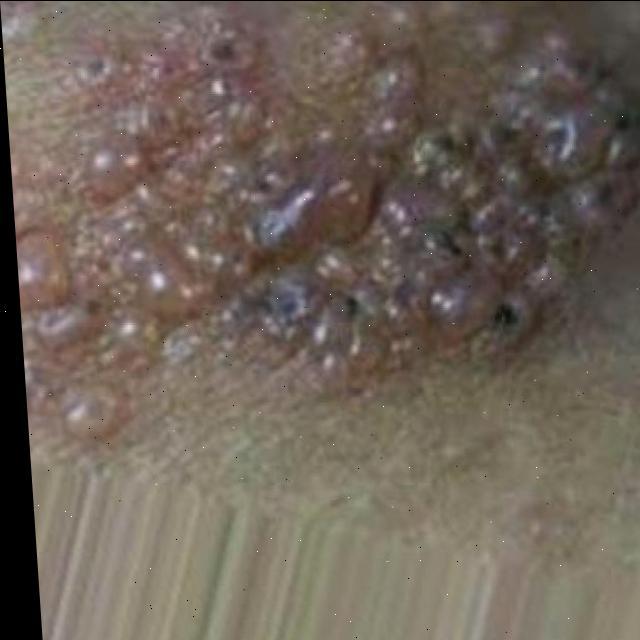Shingles: (0, 1, 640, 428)
